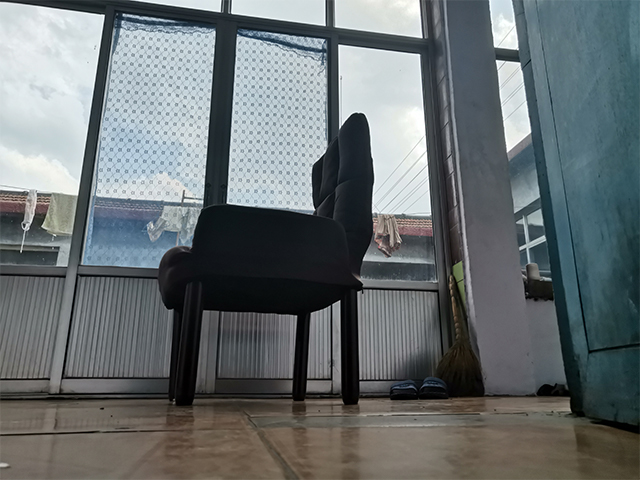slippers: (388, 377, 420, 402), (421, 376, 453, 401)
stool: (154, 110, 376, 408)
